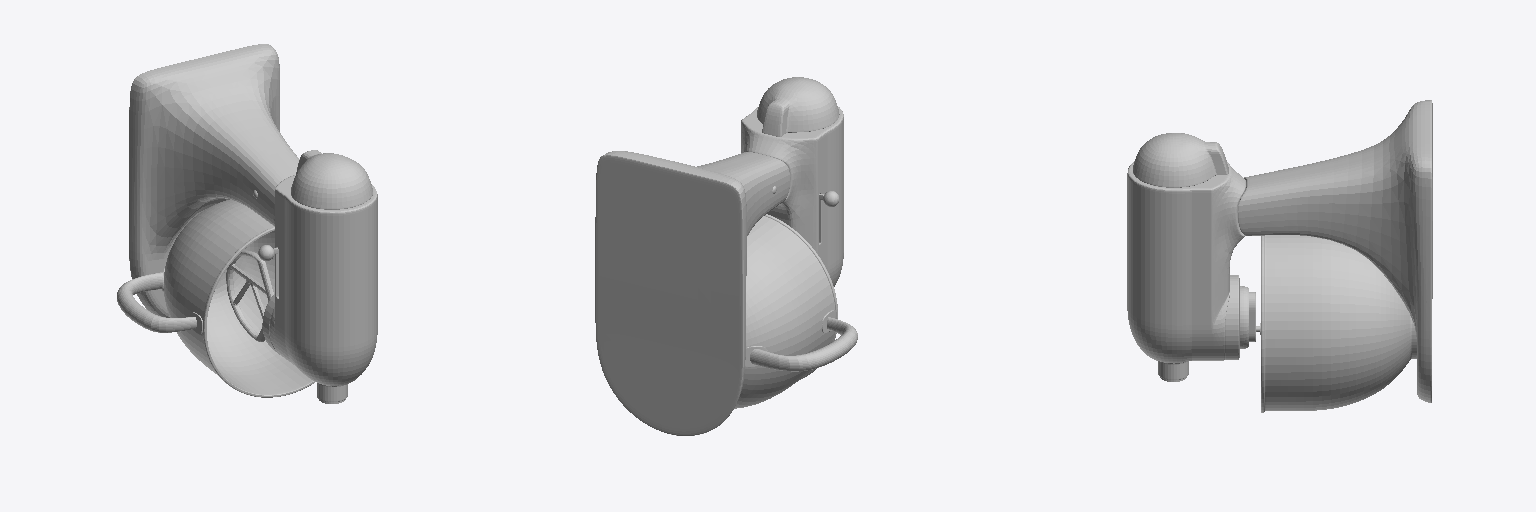
Rendered from StandMixer.obj.
3 renders of one model, left to right at view 1: azimuth 30°, elevation 25°; view 2: azimuth 150°, elevation 25°; view 3: azimuth 270°, elevation 25°, orthographic.
Parts seen in each view (by area): view 1: Mixer, Bowl; view 2: Mixer, Bowl; view 3: Mixer, Bowl.
Boxes of the visible parts, x1=… form: Mixer: x1=129, y1=44, x2=377, y2=403; Bowl: x1=117, y1=200, x2=314, y2=397; Mixer: x1=595, y1=77, x2=843, y2=435; Bowl: x1=734, y1=214, x2=857, y2=408; Mixer: x1=1127, y1=100, x2=1432, y2=402; Bowl: x1=1256, y1=235, x2=1416, y2=412.
Bounding box in the file's own units: 27.85 × 35.73 × 35.81.